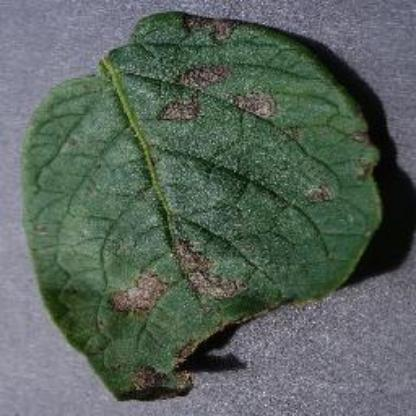Early-Blight: (20, 9, 406, 405)
